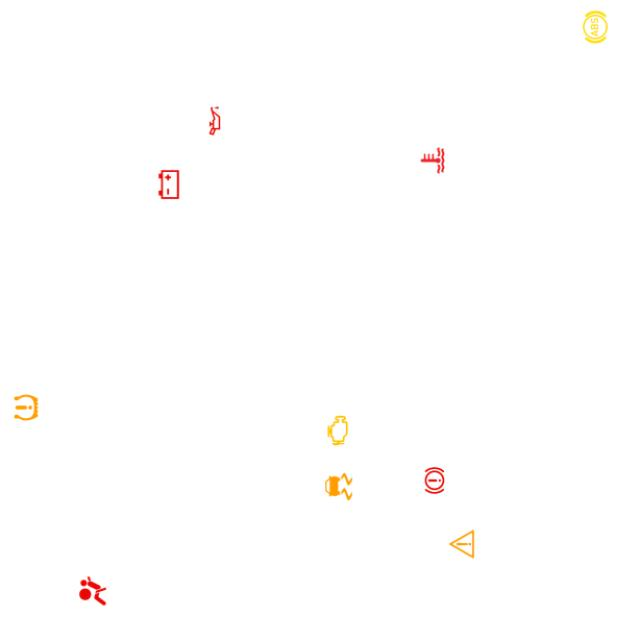Anti Lock Braking System: (577, 9, 613, 45)
Braking System Issue: (417, 463, 452, 498)
Charging System Issue: (151, 167, 187, 202)
Check Engine: (320, 413, 355, 448)
Electronic Stability Problem -ESP-: (321, 469, 357, 505)
Engine Overheating Warning Light: (415, 143, 450, 178)
Low Engine Oil Warning Light: (197, 103, 232, 139)
Low Tire Pressure Warning Light: (8, 390, 44, 425)
Master warning light: (444, 526, 480, 562)
SRS-Airbag: (75, 573, 111, 609)
